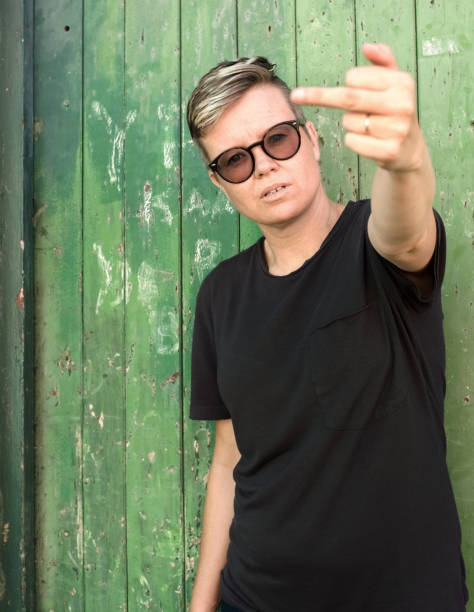insulting_gesture: (288, 39, 428, 171)
